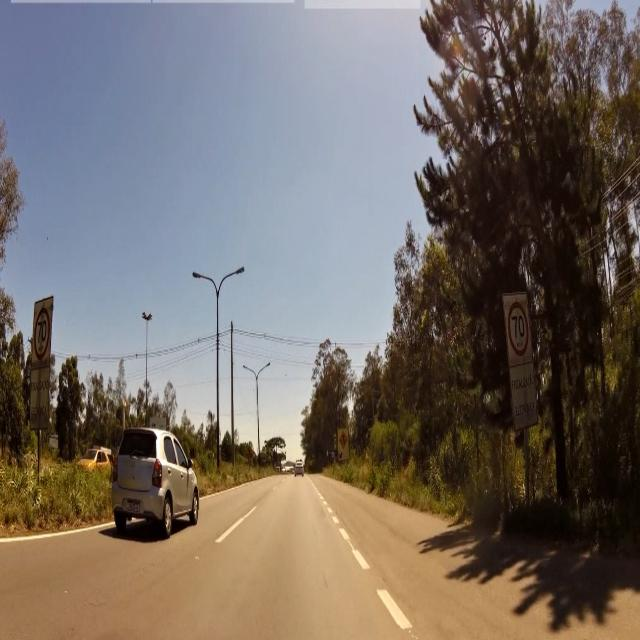R-19: (508, 301, 529, 359)
